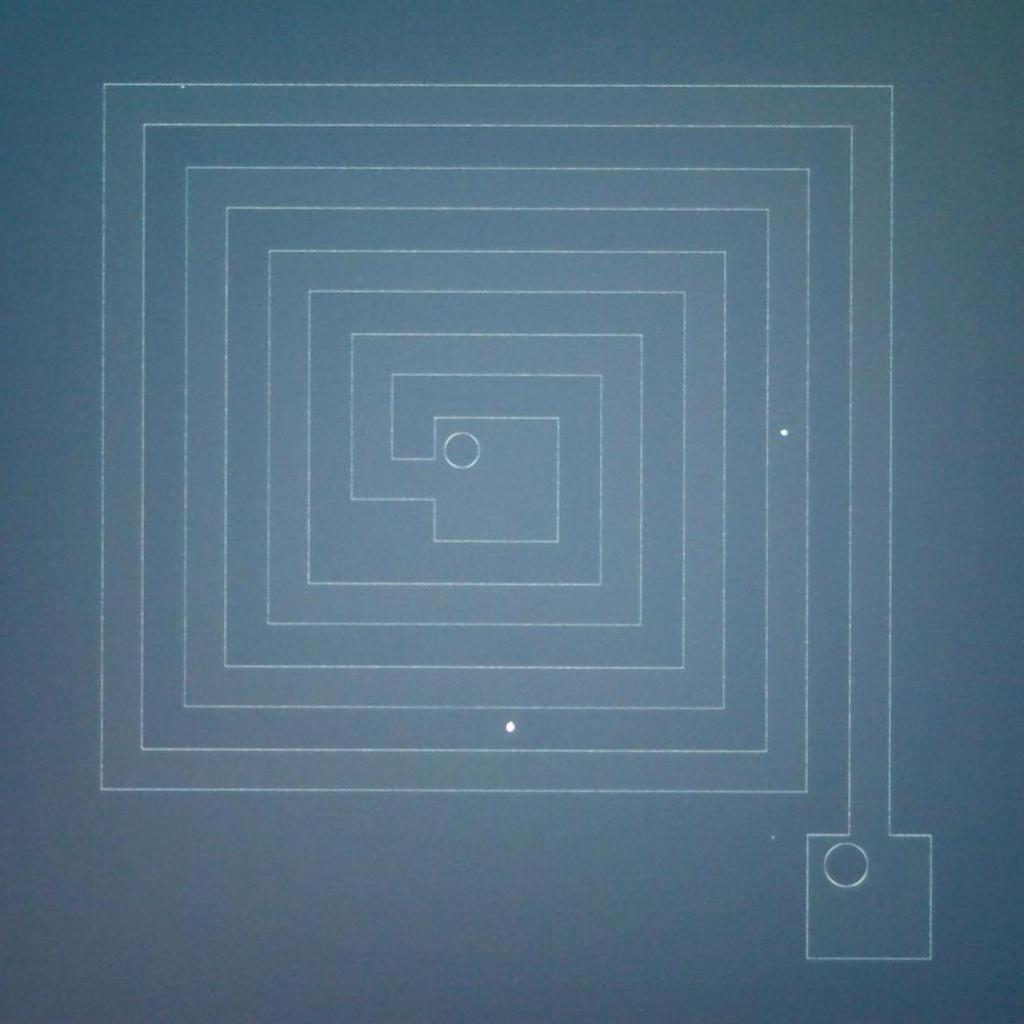circle: (820, 846, 870, 892), (439, 428, 485, 475)
dot: (772, 416, 804, 447)
spot: (498, 712, 523, 739)
